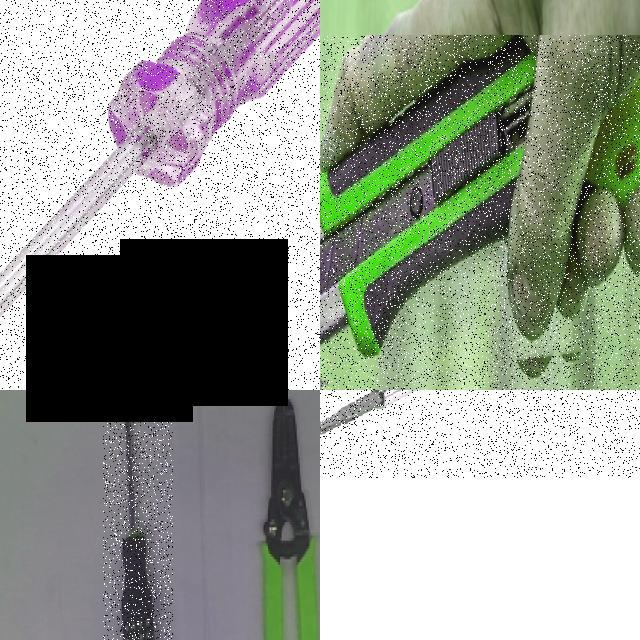estilete: (320, 40, 534, 355)
